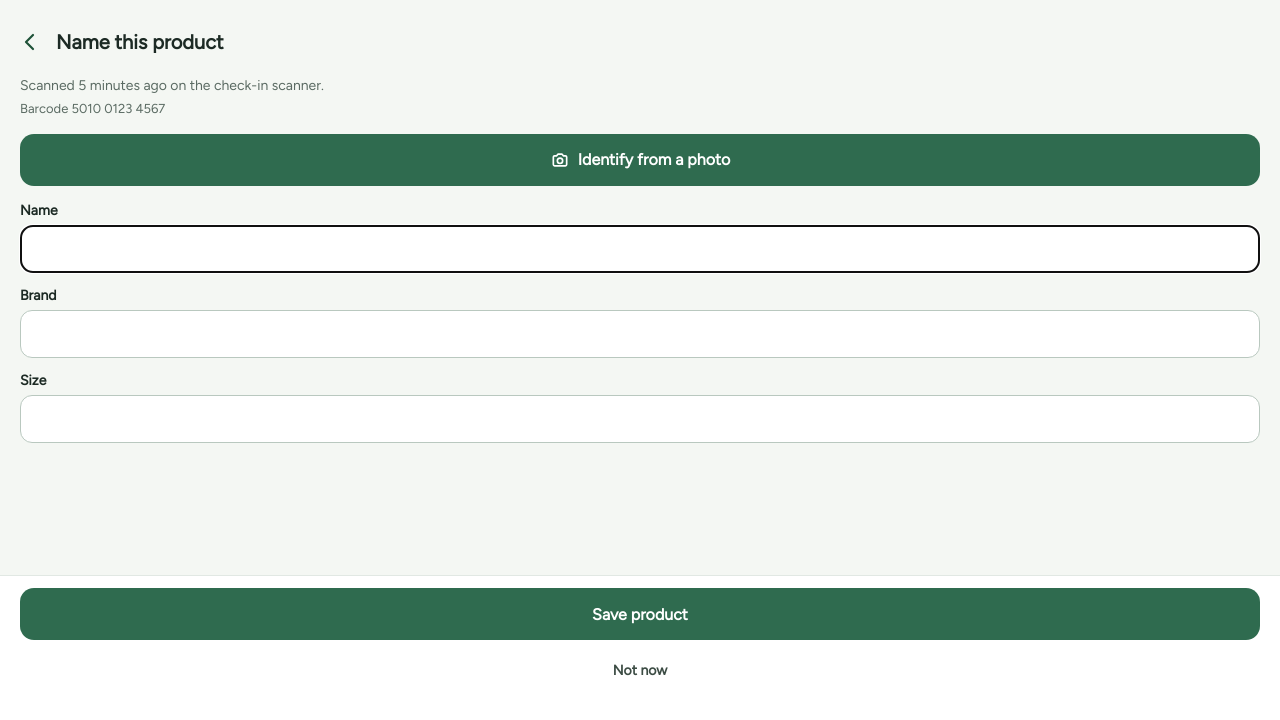
Test: already named (409) says so
In the field labelled "Name": (640, 249) top-left (20, 225), bottom-right (1260, 273), type "Paprika"
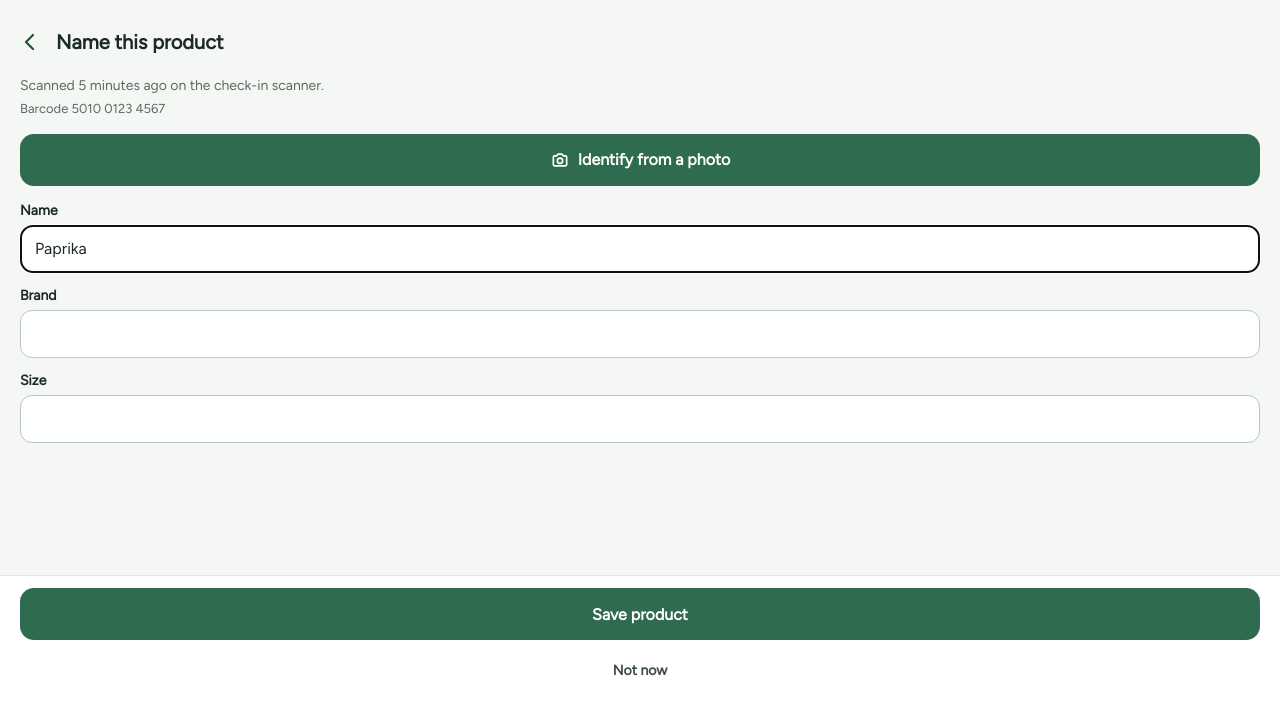
Click the button "Save product": (640, 614) top-left (20, 588), bottom-right (1260, 640)
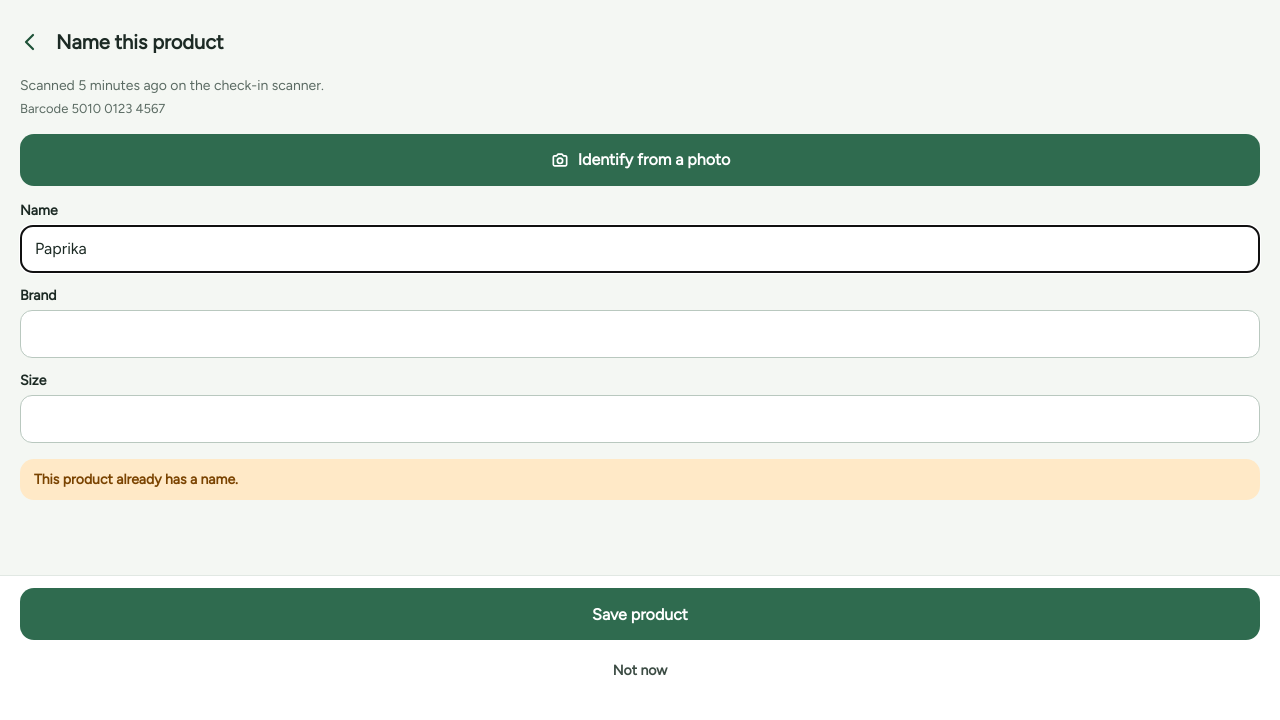
Check: the message reads "This product already has a name.", box top-left (34, 471), bottom-right (238, 488)
